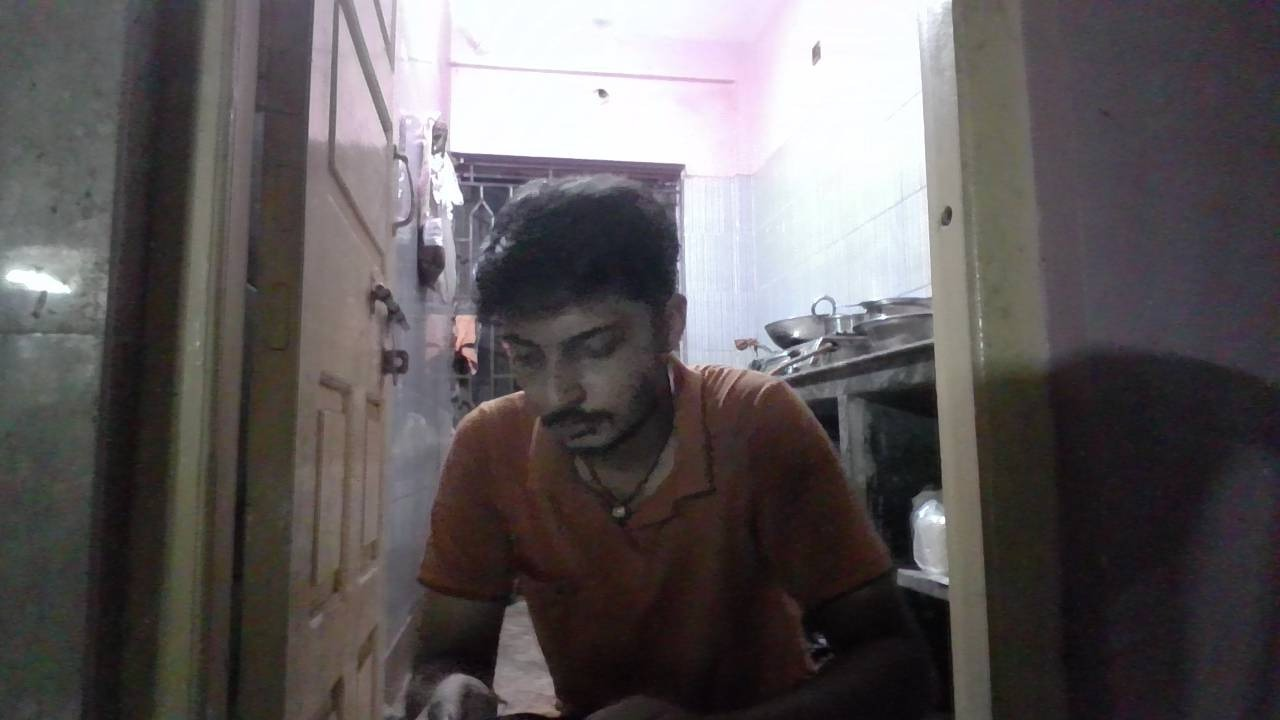red_box: (419, 408, 604, 585), (629, 448, 703, 528)
